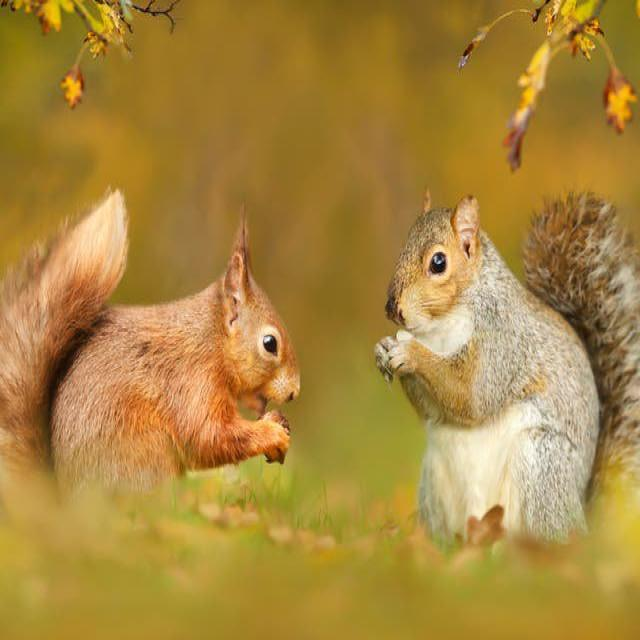Squirrel: (366, 186, 632, 542), (0, 185, 301, 486)
